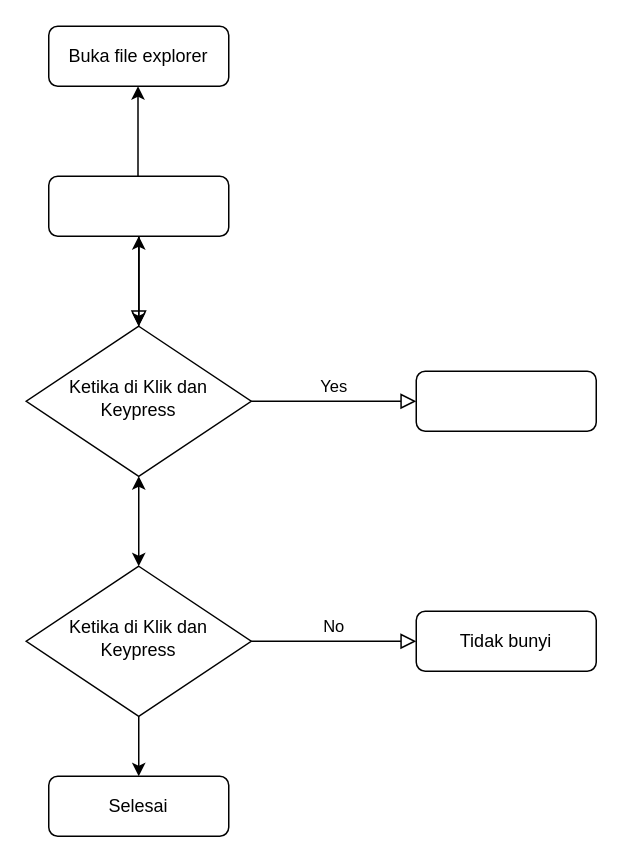
Some shapes in this 623 by 863 pixel diagram are drawn without their labels. Here are the shapes that lost their labels. From the top down, the centre of each, then its label:
At (138,205): "Buka file HTML".
At (505,400): "Bunyi".
